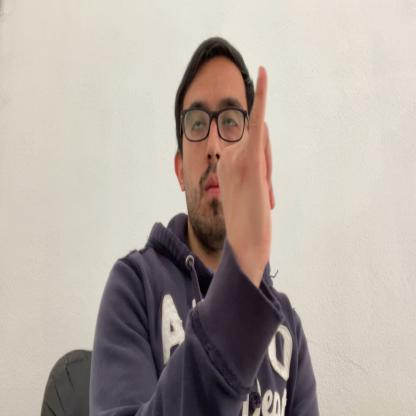I: (218, 59, 276, 271)
